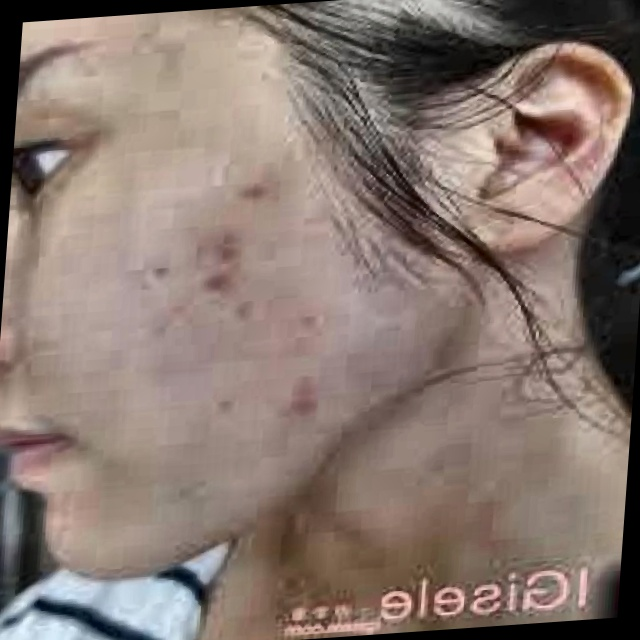comedone: (262, 380, 325, 436), (193, 222, 268, 264), (196, 262, 259, 306), (223, 166, 282, 207)
